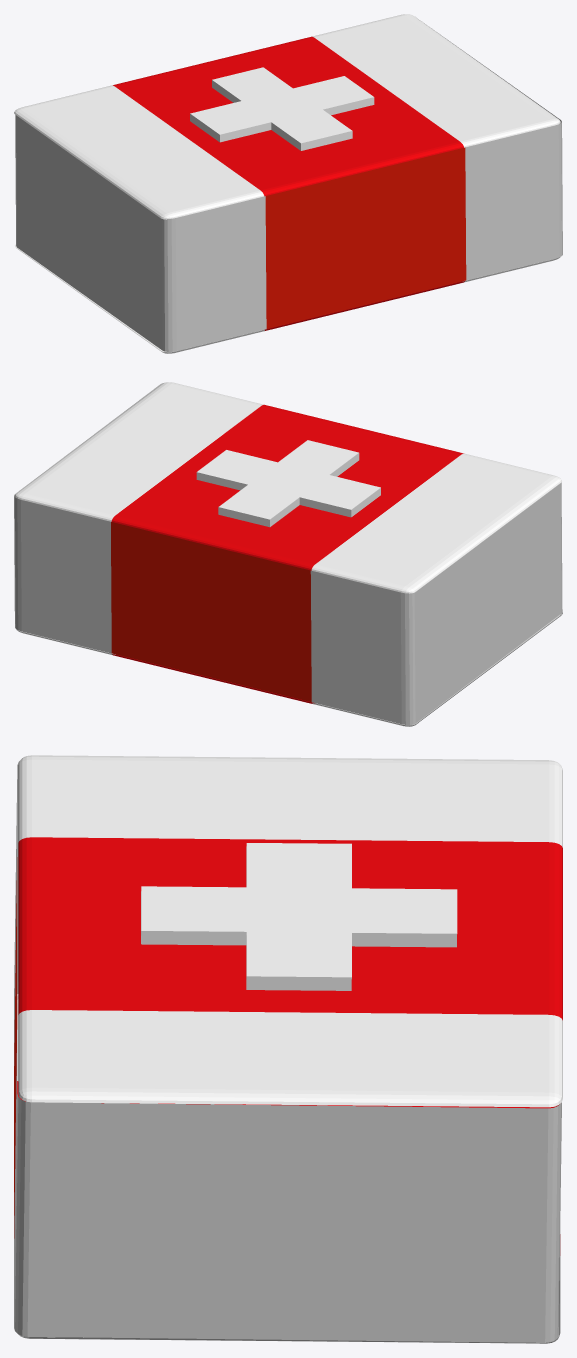
Rendered from Items.fbx_MediKit.fbx.
3 renders of one model, top to bottom at view 1: azimuth 30°, elevation 25°; view 2: azimuth 150°, elevation 25°; view 3: azimuth 270°, elevation 25°, orthographic. The views are drawn at different scales.
Visible parts, largest first — view 1: Cover, Botom_Top; view 2: Cover, Botom_Top; view 3: Botom_Top, Cover.
Boxes of the visible parts, x1=… form: Cover: x1=15, y1=23, x2=562, y2=351; Botom_Top: x1=14, y1=14, x2=560, y2=353; Cover: x1=14, y1=383, x2=562, y2=724; Botom_Top: x1=15, y1=382, x2=562, y2=726; Botom_Top: x1=17, y1=755, x2=562, y2=1343; Cover: x1=14, y1=761, x2=561, y2=1342.
Bounding box in the file's own units: 601 × 214 × 403.
